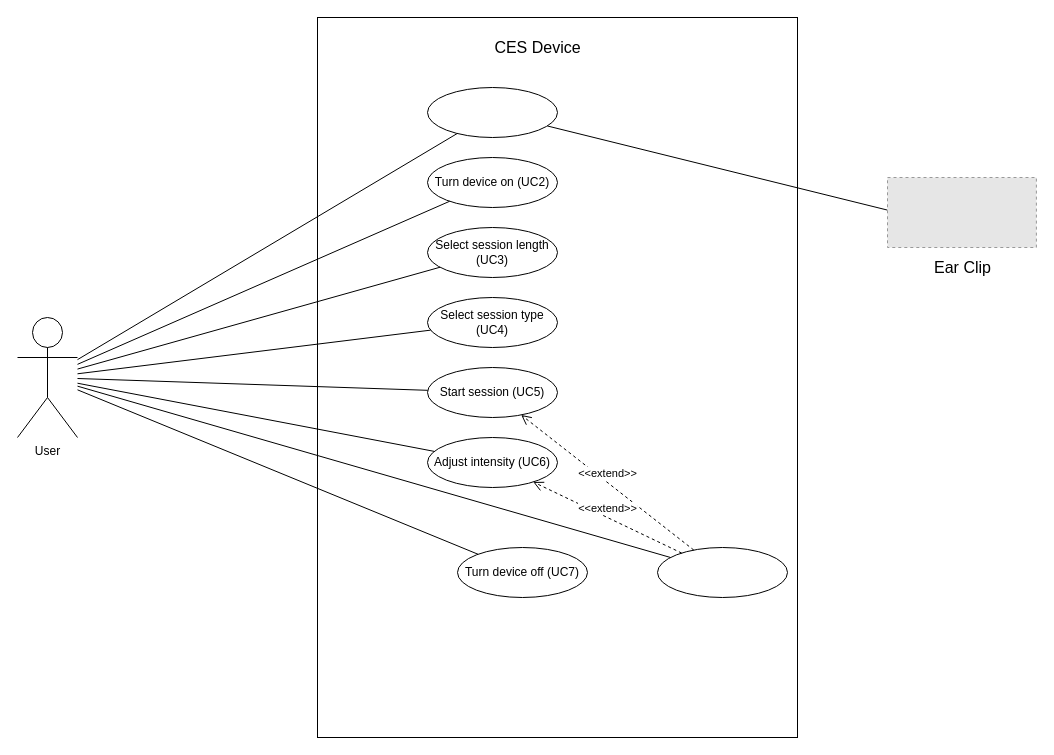
Some shapes in this 1054 by 755 pixel diagram are drawn without their labels. Grey dashed boxes stand in for pictures. The box of each missing label's shape, as (x1, y1, x2, y2) in pixels:
Put device on (UC1): (426, 86, 558, 138)
Record therapy (UC8): (656, 546, 788, 598)
